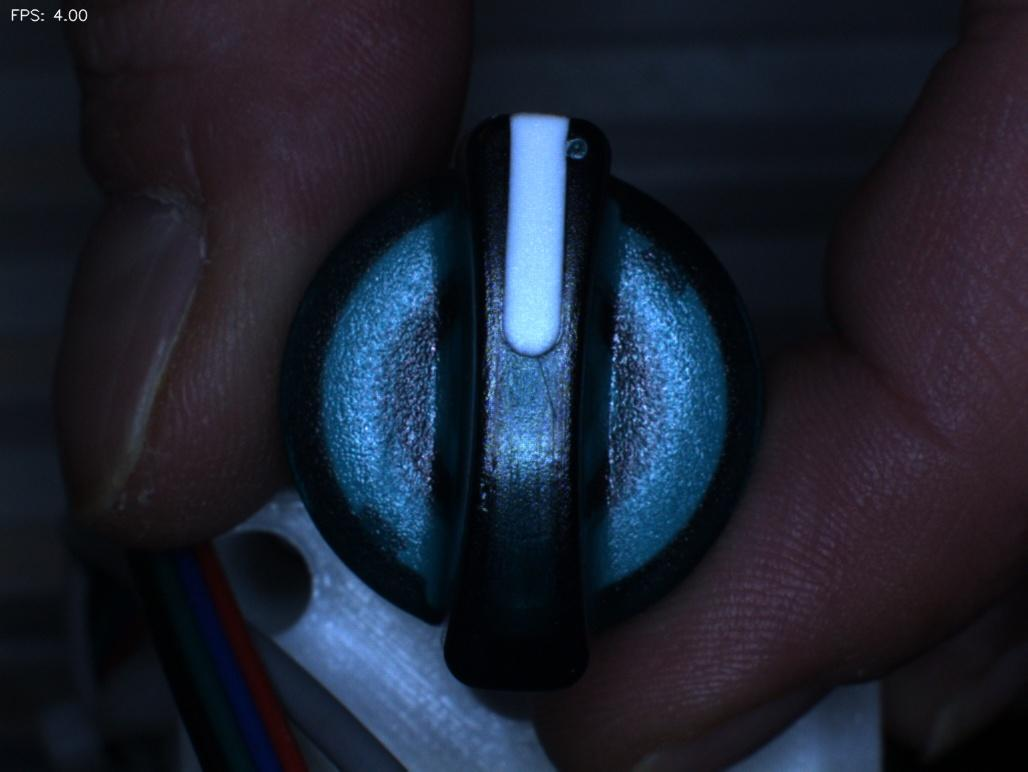Choc: (544, 101, 616, 188)
